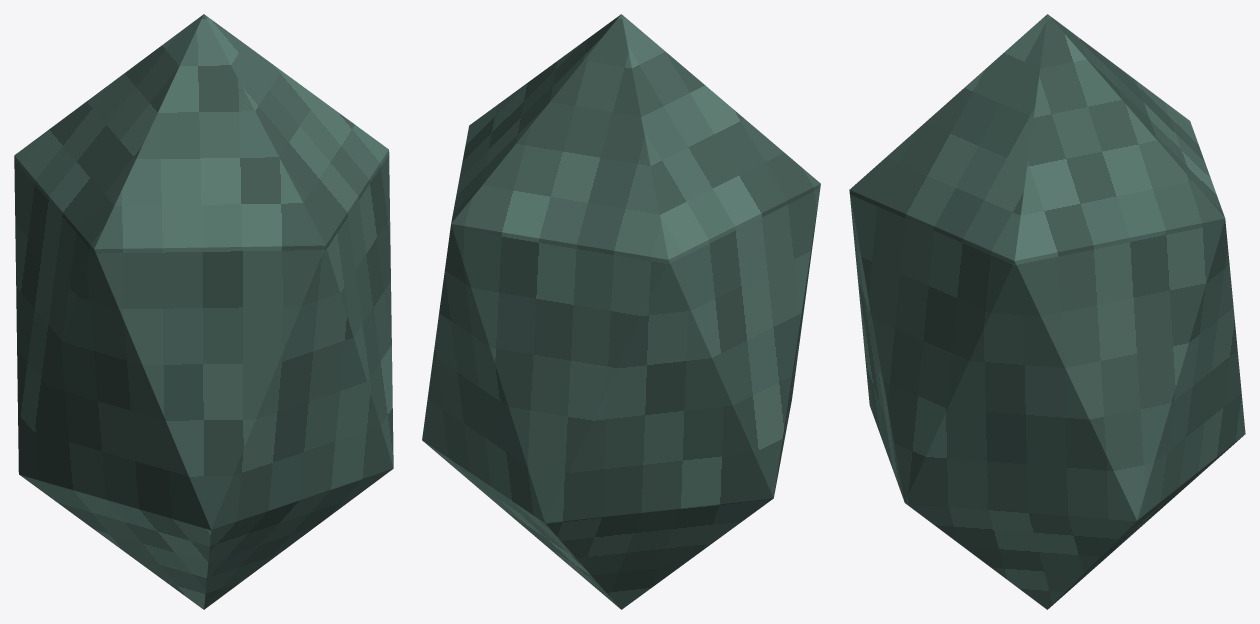
Rendered from rock_12.glb.
3 renders of one model, left to right at view 1: azimuth 30°, elevation 25°; view 2: azimuth 150°, elevation 25°; view 3: azimuth 270°, elevation 25°, orthographic.
Parts seen in each view (by area): view 1: WeatheredStone; view 2: WeatheredStone; view 3: WeatheredStone.
Boxes of the visible parts, x1=… form: WeatheredStone: x1=14, y1=14, x2=393, y2=609; WeatheredStone: x1=422, y1=14, x2=820, y2=609; WeatheredStone: x1=849, y1=14, x2=1245, y2=609.
Bounding box in the file's own units: 1.46 × 2.46 × 1.48.
1 material, 1 textured.
